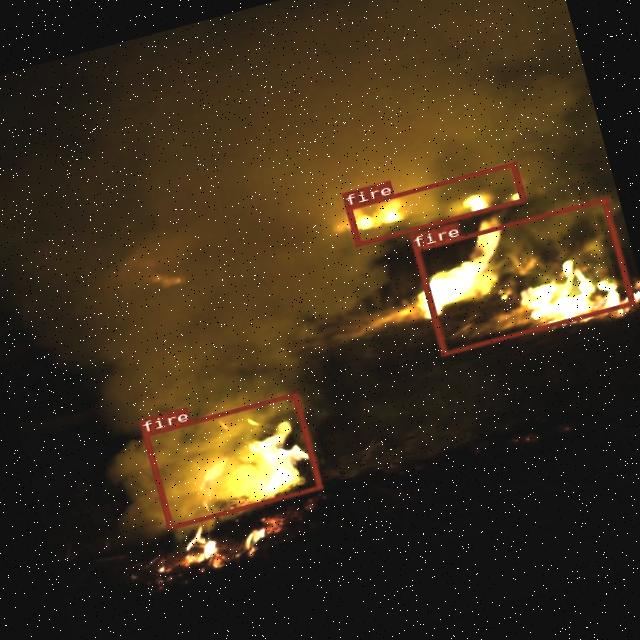fire: (412, 196, 634, 356), (140, 391, 322, 530), (343, 161, 524, 246)
